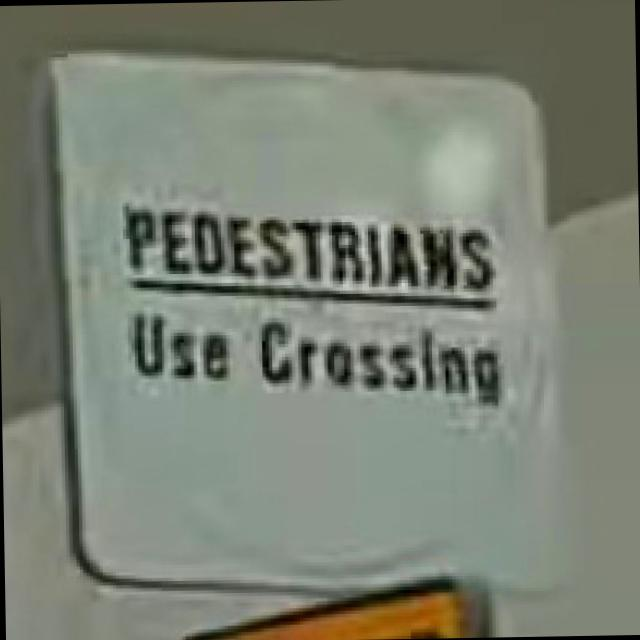pedestriancrossing_sign: (116, 189, 512, 418)
